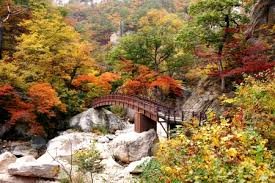mountain: (6, 6, 274, 183)
stone: (22, 116, 157, 183)
tree: (193, 3, 253, 95)
